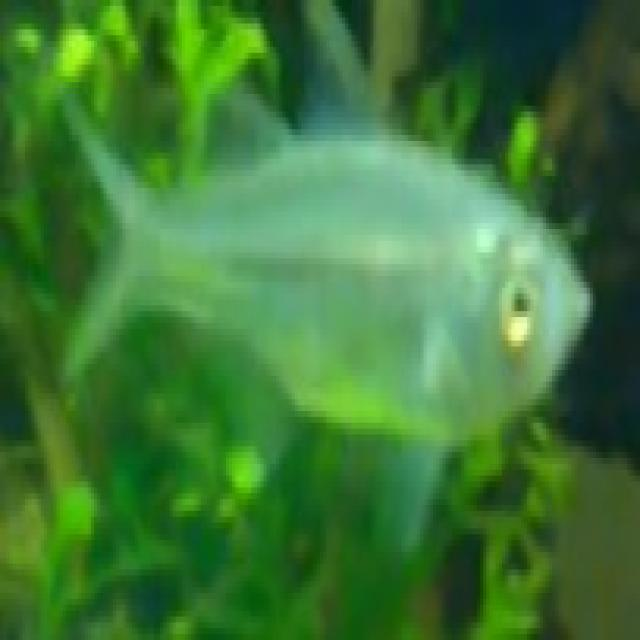Glass-Perchlet: (39, 21, 616, 537)
